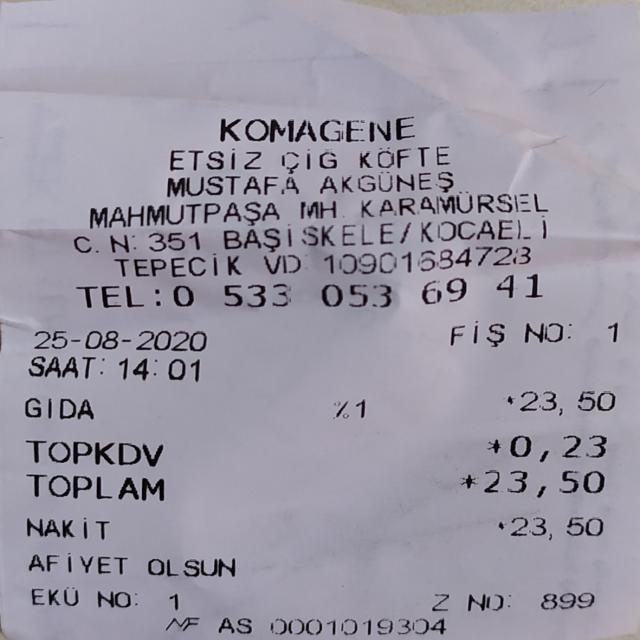text: (312, 244, 529, 272), (210, 219, 395, 251), (218, 114, 413, 143), (33, 324, 205, 355), (25, 467, 162, 505), (25, 434, 161, 469), (88, 201, 278, 225), (358, 192, 547, 216), (270, 612, 443, 636), (112, 250, 242, 280), (484, 466, 604, 497), (417, 214, 548, 242), (165, 172, 298, 198), (321, 168, 454, 194), (510, 431, 609, 462), (519, 384, 615, 415), (168, 144, 260, 174), (358, 142, 449, 172), (74, 278, 144, 315), (320, 273, 390, 310), (147, 550, 233, 580), (27, 511, 107, 543), (224, 275, 292, 312), (514, 512, 603, 540), (118, 352, 198, 383), (29, 552, 128, 576), (408, 270, 465, 308), (28, 350, 95, 381), (25, 393, 92, 422), (494, 269, 540, 307), (446, 318, 504, 348), (146, 230, 208, 253), (280, 148, 339, 172), (256, 246, 300, 278), (522, 314, 562, 349), (70, 233, 129, 256), (538, 587, 592, 611), (28, 586, 80, 610), (297, 194, 335, 222), (99, 583, 131, 612), (468, 592, 503, 616), (171, 276, 192, 314), (218, 612, 249, 634), (330, 398, 350, 421), (398, 216, 412, 246), (457, 470, 476, 492), (430, 589, 447, 613), (605, 322, 619, 348), (486, 432, 498, 462), (353, 398, 367, 420), (168, 591, 180, 613), (154, 276, 159, 314), (131, 231, 138, 255), (96, 353, 102, 381), (495, 518, 507, 532), (506, 588, 509, 612)
